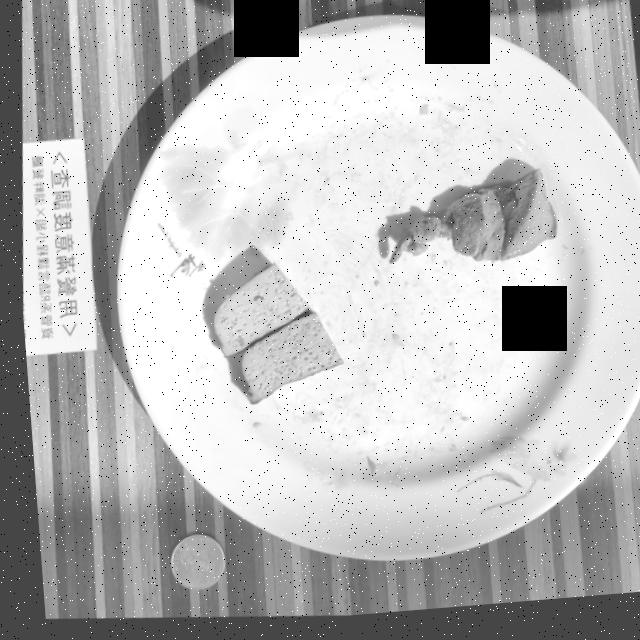coin: (162, 535, 216, 591)
firm tofu: (208, 267, 336, 407)
pig liver: (385, 178, 552, 268)
